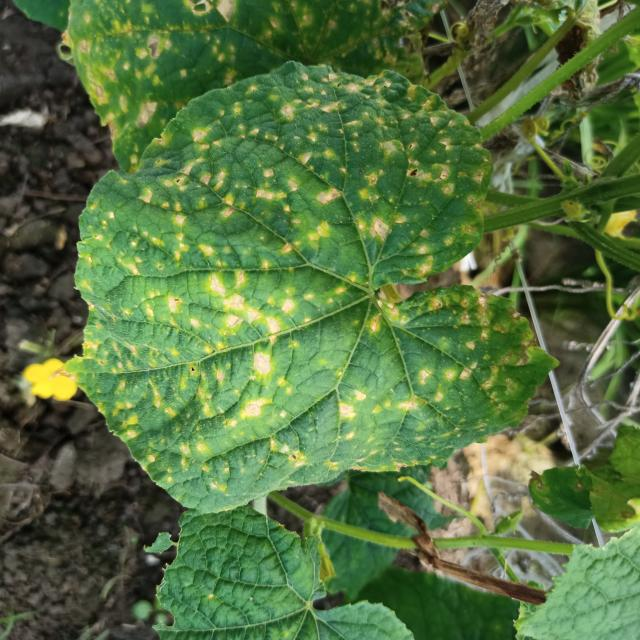disease_cucumber: (82, 65, 526, 505), (74, 0, 409, 161)
